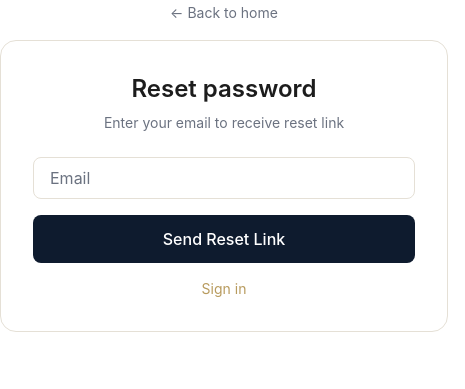
Test: ForgotPasswordForm › shows validation error for empty email on submit
The width and height of the screenshot is (465, 389).
Click the button "Send Reset Link" at (224, 239), box [33,215,415,263]
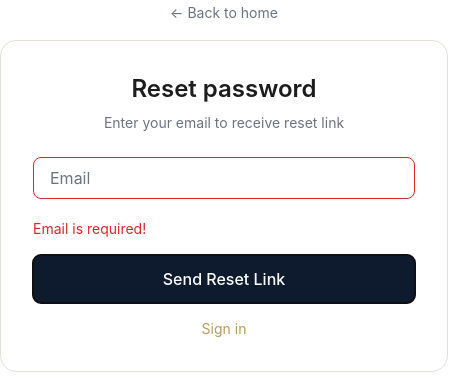
Expected: the text "Email is required!" is shown, [33,220,146,237]
